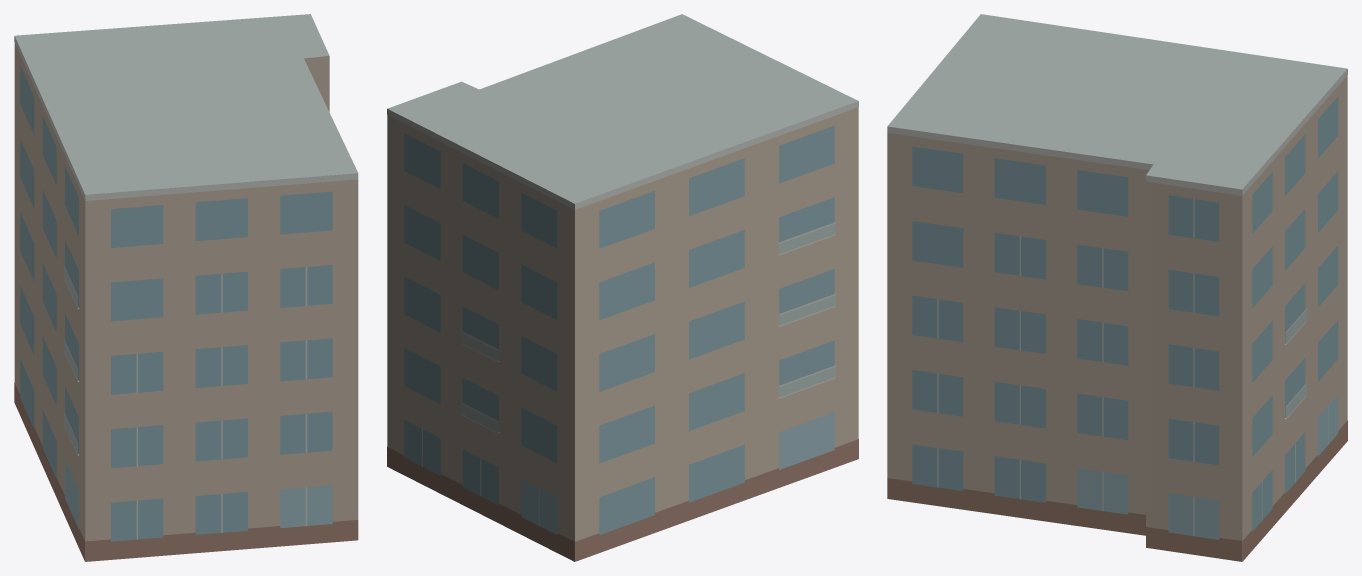
The model's file is survey-upis-32868952.glb.
3 renders of one model, left to right at view 1: azimuth 30°, elevation 25°; view 2: azimuth 150°, elevation 25°; view 3: azimuth 270°, elevation 25°, orthographic. The views are drawn at different scales.
Visible parts, largest first — view 1: survey-upis-32868952.tmp; view 2: survey-upis-32868952.tmp; view 3: survey-upis-32868952.tmp.
Boxes of the visible parts, box(x1,y1,x2,y2) form: survey-upis-32868952.tmp: box(14, 14, 358, 561); survey-upis-32868952.tmp: box(387, 14, 858, 561); survey-upis-32868952.tmp: box(887, 14, 1347, 561).
Size of the model in its own units: 14.56 by 14.4 by 16.15.
